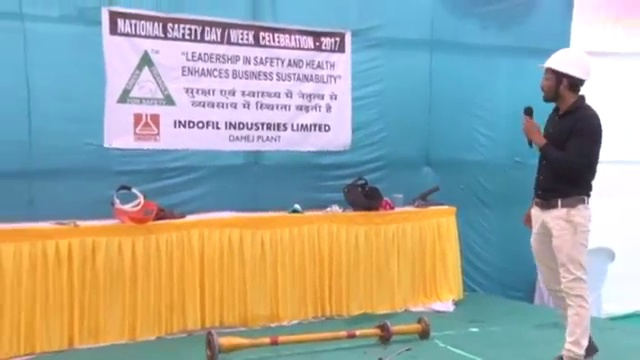helmet: (538, 48, 593, 82)
helmet_on: (537, 48, 594, 110)
person: (521, 47, 600, 360)
